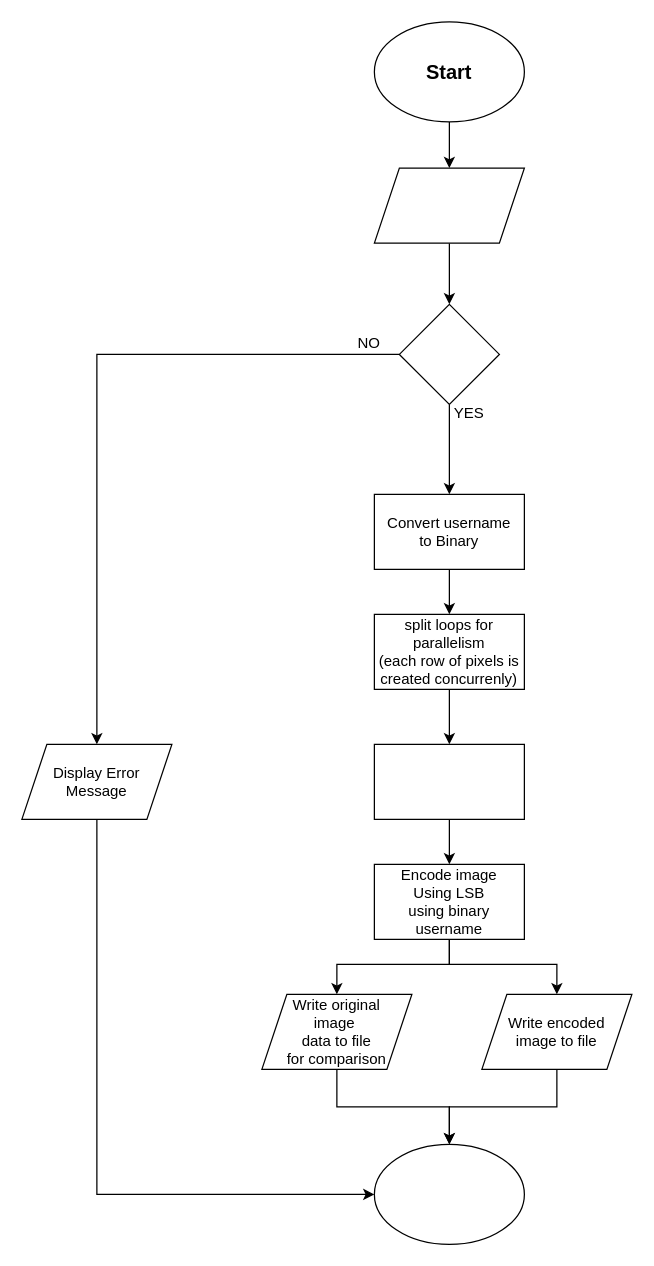
The diagram is 654 pixels wide and 1266 high, and some of its shapes have lost their labels. Here are the shapes that lost their labels. From the top down, the centre of each, then its label:
At (448,205): "Get username".
At (448,353): "Valid Username".
At (448,781): "Create Image of Random Pixels".
At (448,1193): "End".
